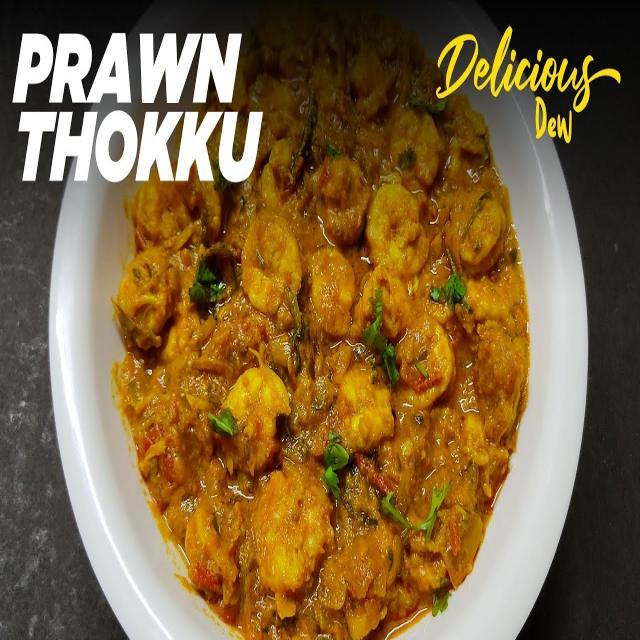prawn thokku: (113, 187, 512, 609)
